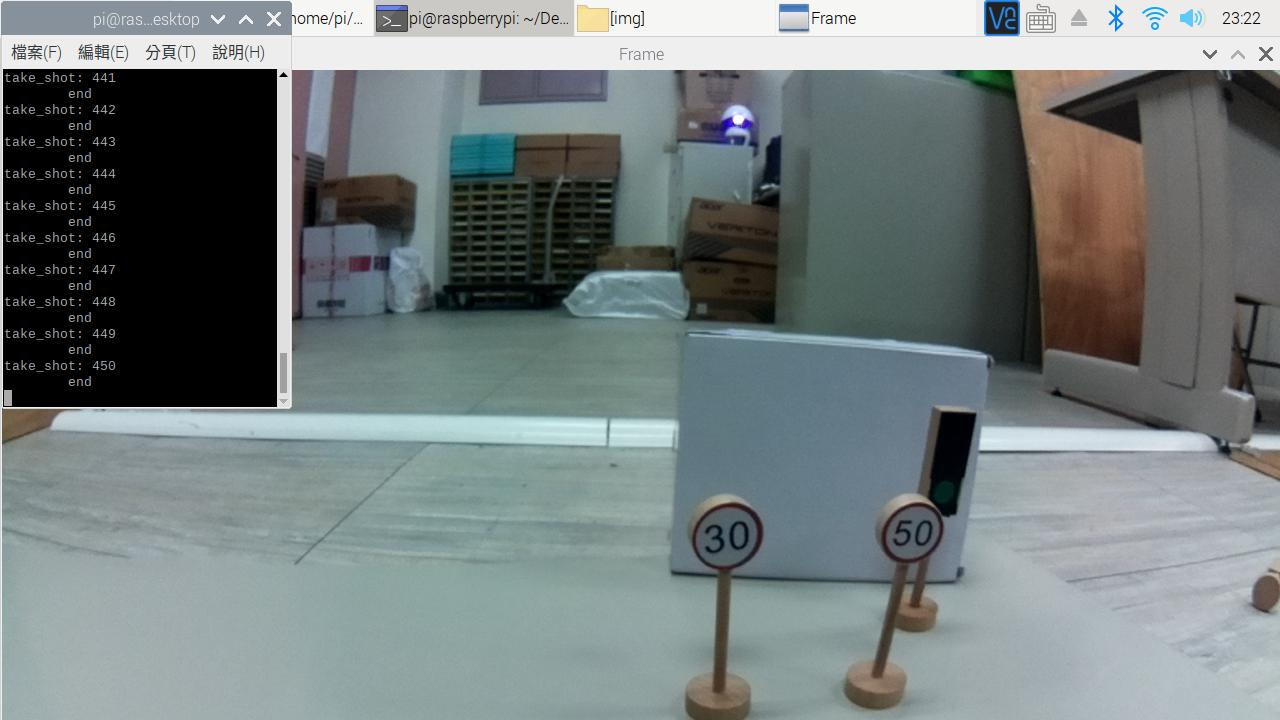Green: (918, 403, 982, 516)
Speed30: (678, 487, 774, 582)
Speed50: (860, 495, 952, 570)
